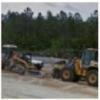tractors: (52, 49, 98, 88), (2, 42, 44, 79)
